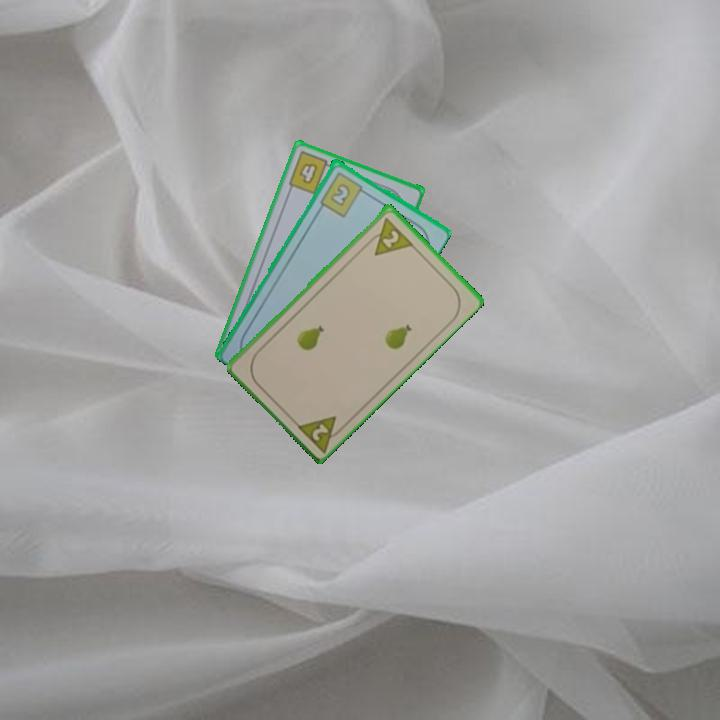2b: (316, 168, 370, 219)
2p: (292, 411, 349, 455), (362, 213, 415, 258)
4b: (285, 148, 337, 197)
